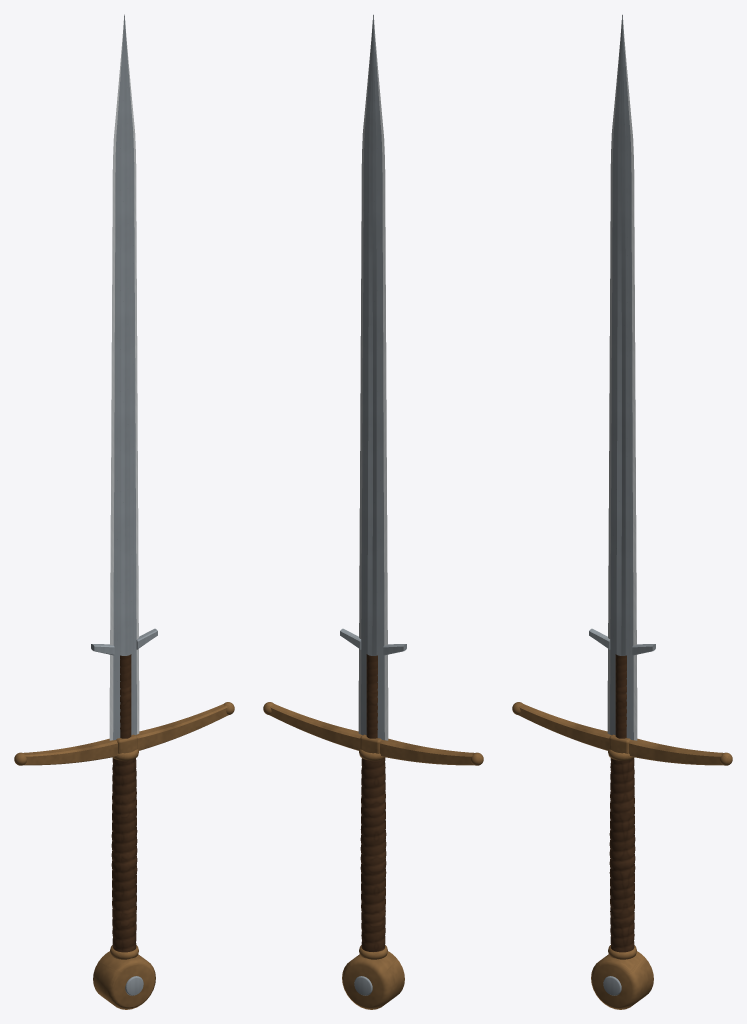
File: greatsword.glb
3 views of the same model, side by side, from view 1: azimuth 30°, elevation 25°; view 2: azimuth 150°, elevation 25°; view 3: azimuth 330°, elevation 25° (orthographic).
Visible parts, largest first — view 1: steel / forged blade steel, bronze / cast bronze with patina, leather / oiled leather wrap, edge / honed bright bevel; view 2: steel / forged blade steel, bronze / cast bronze with patina, leather / oiled leather wrap, edge / honed bright bevel; view 3: steel / forged blade steel, bronze / cast bronze with patina, leather / oiled leather wrap, edge / honed bright bevel.
Boxes of the visible parts, x1,y1,x2,y2 form: steel / forged blade steel: (91,14,157,995); bronze / cast bronze with patina: (14,702,234,1009); leather / oiled leather wrap: (111,654,137,952); edge / honed bright bevel: (109,16,139,740); steel / forged blade steel: (340,14,406,995); bronze / cast bronze with patina: (263,702,483,1009); leather / oiled leather wrap: (360,654,386,951); edge / honed bright bevel: (358,16,388,740); steel / forged blade steel: (589,14,655,995); bronze / cast bronze with patina: (512,702,732,1009); leather / oiled leather wrap: (609,654,635,952); edge / honed bright bevel: (607,16,637,740).
Bounding box in the file's own units: 0.3798 × 1.64 × 0.066.
4 materials, 4 textured.
